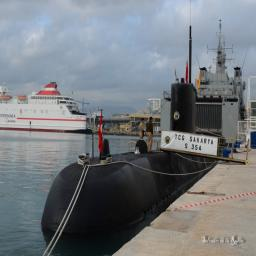submarine: (38, 19, 224, 238)
